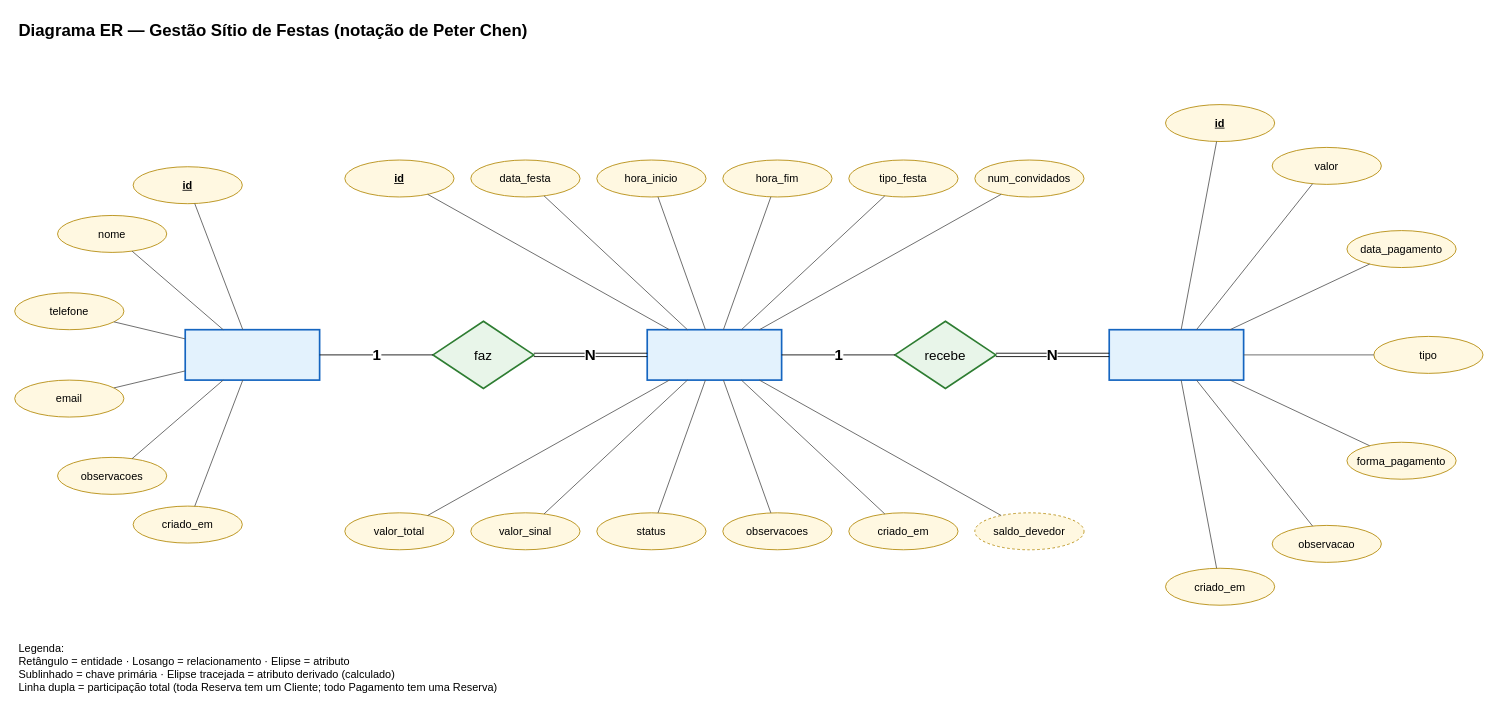
This 1498x726 diagram has some shape labels left out. The shapes that lost their labels are listed below. From the top down, each one's box as (x1, y1, x2, y2) in pixels, then its label:
(184, 328, 320, 381): Cliente
(646, 328, 782, 381): Reserva
(1108, 328, 1244, 381): Pagamento
